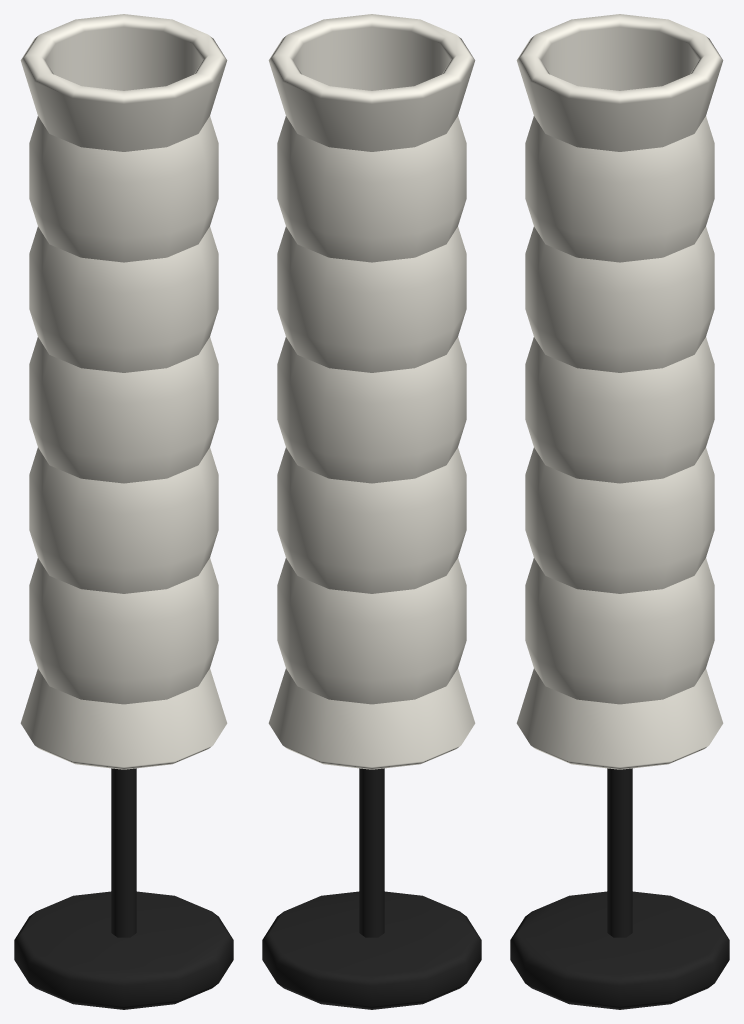
The model's file is lamp_002.fbx.
The picture shows the model from 3 angles, left to right: view 1: azimuth 30°, elevation 25°; view 2: azimuth 150°, elevation 25°; view 3: azimuth 270°, elevation 25°; orthographic projection.
Visible parts, largest first — view 1: lamp_002; view 2: lamp_002; view 3: lamp_002.
Boxes of the visible parts, x1,y1,x2,y2 form: lamp_002: (14,14,233,1009); lamp_002: (262,14,481,1009); lamp_002: (510,14,729,1009).
Bounding box in the file's own units: 37.98 × 37.98 × 174.
